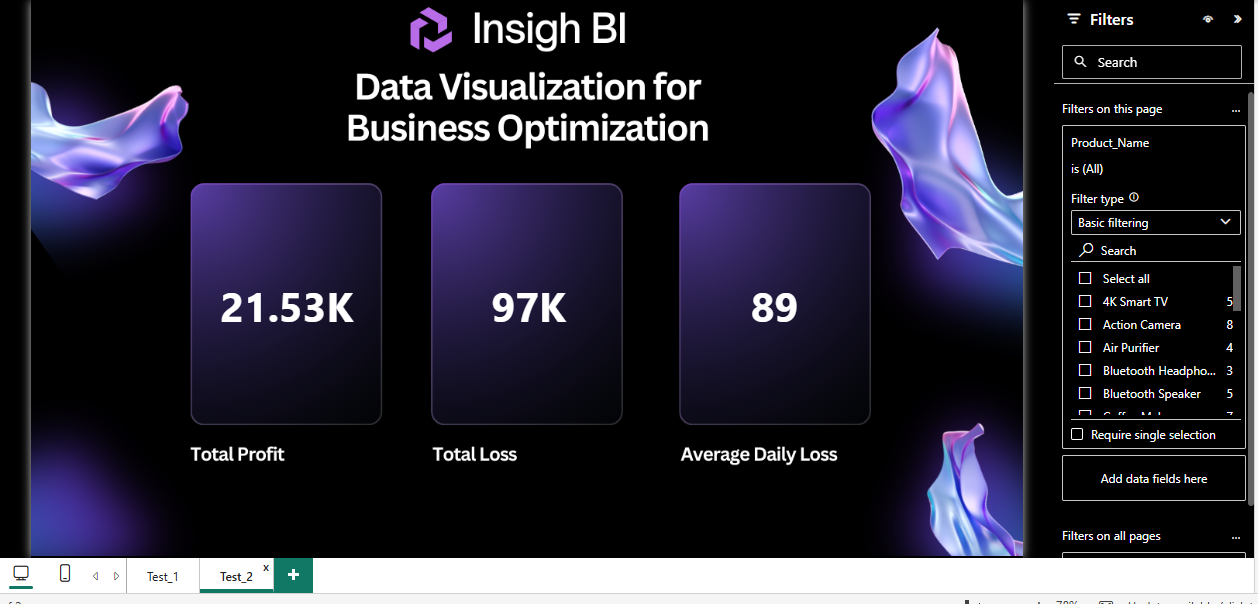

What the dashboard file says about the page in this screenshot:
{"tool":"powerbi","page":{"name":"Test_2","canvas":[1280,720],"ordinal":1},"visuals":[{"type":"card","fields":{"Values":["Measures Table.Total Profit"]},"box":[208.4,240.8,242.2,304.2],"z":0},{"type":"card","fields":{"Values":["Measures Table.Total loss"]},"box":[516.8,240.8,249.2,304.2],"z":1},{"type":"card","fields":{"Values":["Measures Table.Avg Daily Loss"]},"box":[835,240.8,249.2,304.2],"z":2}]}

Visuals, with their boxes on the page's 1280x720 design canvas (x1, y1, x2, y2). These are canvas units, not pixel positions in the 1258x604 screenshot, which may show the page scaled, cropped or inside an application window:
card - Measures Table.Total Profit: [208,241,451,545]
card - Measures Table.Total loss: [517,241,766,545]
card - Measures Table.Avg Daily Loss: [835,241,1084,545]
